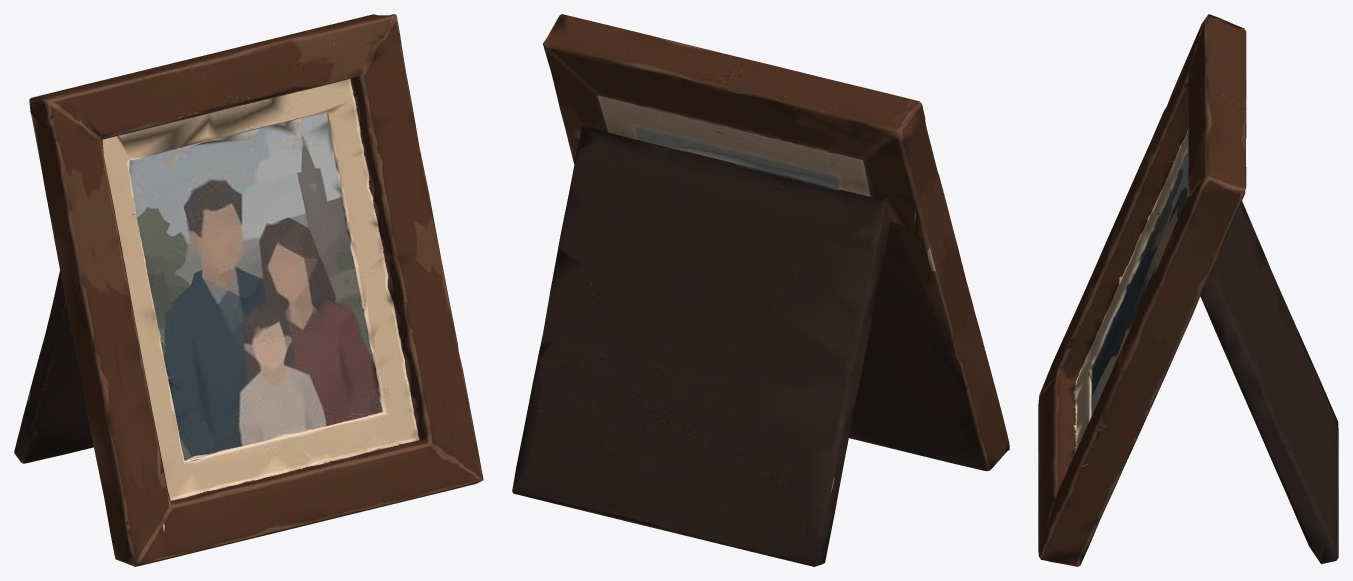
The model's file is photo.glb.
3 renders of one model, left to right at view 1: azimuth 30°, elevation 25°; view 2: azimuth 150°, elevation 25°; view 3: azimuth 270°, elevation 25°, orthographic. The views are drawn at different scales.
Bounding box in the file's own units: 1.68 × 1.9 × 1.3.
Materials: 1 (1 with a texture image).
